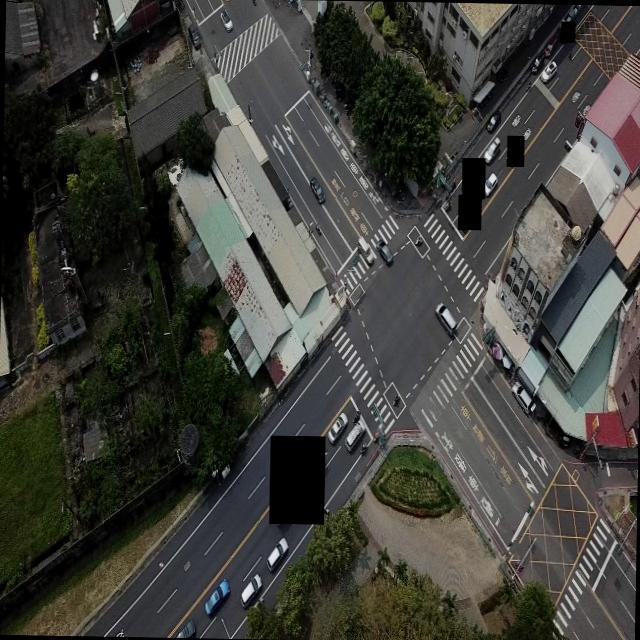bike: (352, 409, 362, 426), (314, 220, 323, 237), (392, 392, 399, 408)
car: (203, 578, 230, 615), (510, 381, 536, 414), (266, 536, 288, 572), (434, 302, 456, 337), (240, 573, 262, 608), (344, 420, 366, 452), (327, 412, 347, 444), (356, 236, 375, 266), (528, 48, 545, 76), (375, 239, 393, 265), (483, 136, 500, 163), (308, 176, 324, 204), (540, 59, 557, 82), (176, 618, 197, 636), (542, 34, 558, 57), (484, 172, 498, 197), (486, 110, 500, 132), (188, 24, 200, 49), (219, 9, 232, 32)
